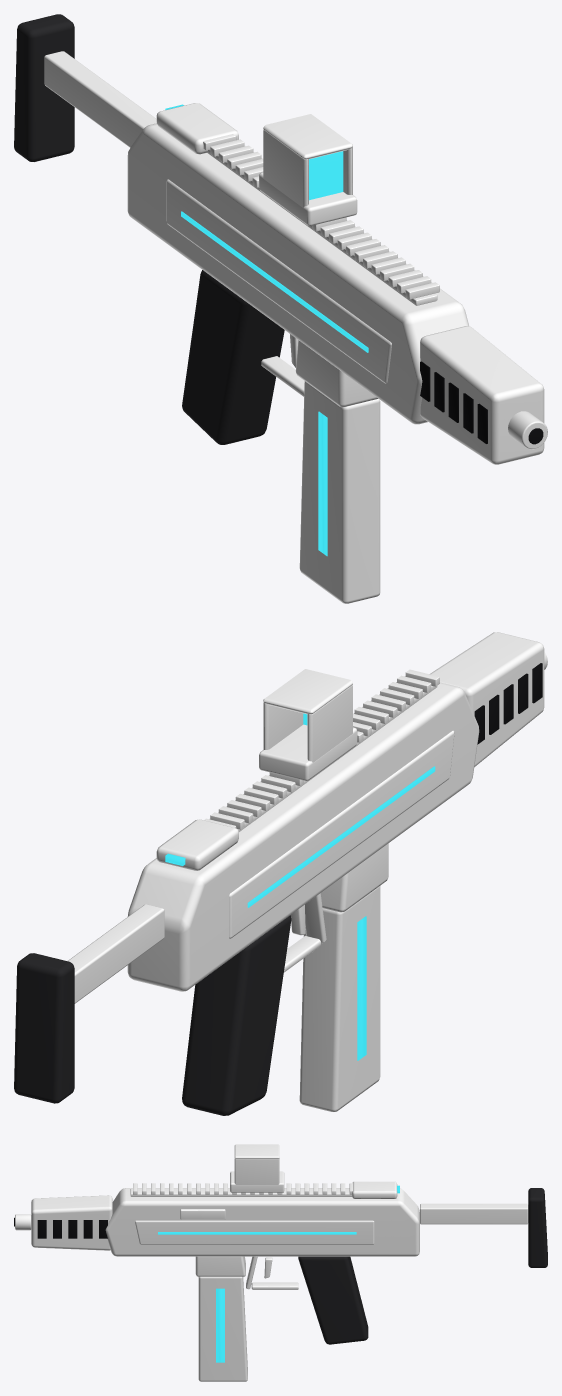
The model's file is smg.glb.
3 renders of one model, top to bottom at view 1: azimuth 30°, elevation 25°; view 2: azimuth 150°, elevation 25°; view 3: azimuth 270°, elevation 25°, orthographic. The views are drawn at different scales.
Visible parts, largest first — view 1: receiver, mag, grip, shroud, side_inlay, stock_pad, rail_teeth, stock_arm, sight_top, smart_link, magwell, sight_wall (+7 smaller); view 2: receiver, grip, mag, side_inlay, stock_pad, shroud, rail_teeth, stock_arm, sight_body, smart_link, sight_top, sight_wall (+6 smaller); view 3: receiver, side_inlay, mag, grip, shroud, stock_arm, stock_pad, rail_teeth, sight_wall.001, rail_base, magwell, smart_link (+6 smaller).
Part boxes in pixels (box(x1,y1,x2,y2)): receiver: box(127, 123, 468, 424); mag: box(299, 381, 380, 603); grip: box(182, 270, 284, 444); shroud: box(420, 326, 544, 464); side_inlay: box(166, 179, 391, 383); stock_pad: box(14, 14, 74, 161); rail_teeth: box(203, 134, 439, 299); stock_arm: box(44, 51, 156, 147); sight_top: box(263, 114, 352, 159); smart_link: box(156, 103, 238, 154); magwell: box(295, 340, 378, 406); sight_wall: box(263, 130, 308, 207); receiver: box(127, 676, 479, 991); grip: box(182, 915, 291, 1115); mag: box(299, 886, 380, 1111); side_inlay: box(229, 730, 454, 938); stock_pad: box(14, 953, 74, 1103); shroud: box(429, 632, 544, 766); rail_teeth: box(204, 669, 439, 829); stock_arm: box(67, 904, 164, 1003); sight_body: box(259, 724, 357, 780); smart_link: box(156, 819, 238, 870); sight_top: box(263, 669, 352, 714); sight_wall: box(307, 685, 352, 762); receiver: box(105, 1188, 419, 1256); side_inlay: box(135, 1220, 374, 1244); mag: box(198, 1276, 247, 1381); grip: box(298, 1256, 368, 1344); shroud: box(31, 1195, 112, 1250); stock_arm: box(420, 1203, 528, 1224); stock_pad: box(528, 1188, 547, 1267); rail_teeth: box(133, 1183, 352, 1194); sight_wall.001: box(234, 1158, 279, 1184); rail_base: box(130, 1188, 351, 1196); magwell: box(195, 1256, 245, 1276); smart_link: box(352, 1181, 397, 1198).
Size of the model in its own units: 0.0481 by 0.278 by 0.591.
